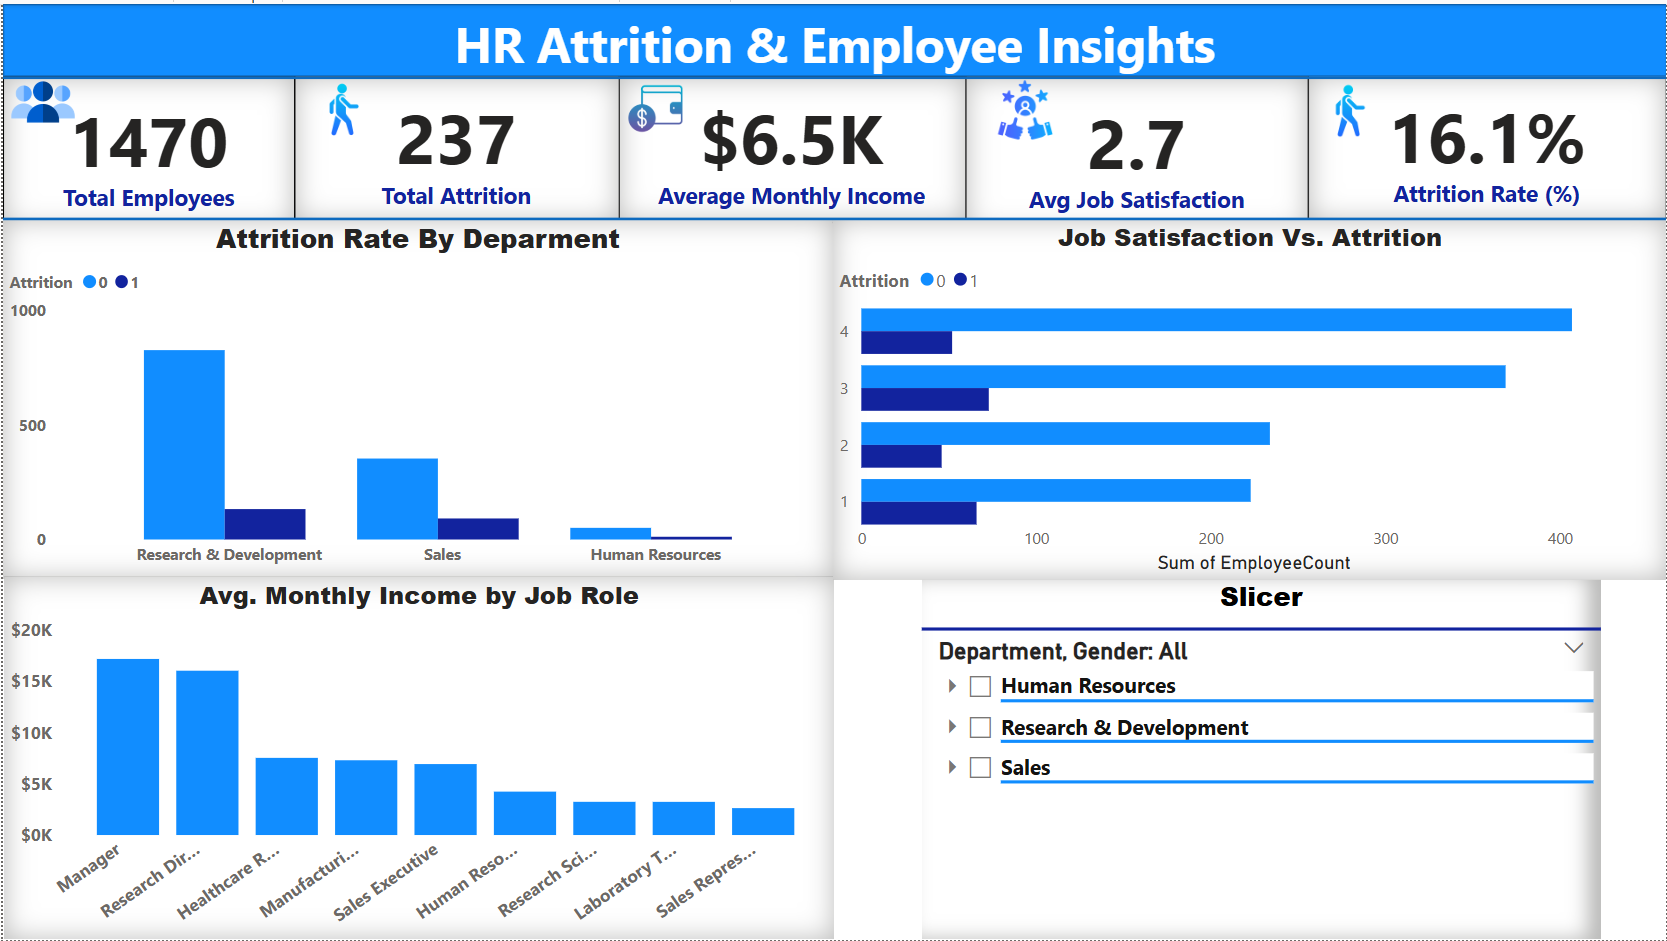

The page's visual inventory and layout, read from the dashboard file:
{"tool":"powerbi","page":{"name":"Page 1","canvas":[1280,720],"ordinal":0},"visuals":[{"type":"card","fields":{"Values":["Measures_Table.Attrition Rate (%)"]},"box":[1003.8,54.4,276.2,112.9],"z":0},{"type":"shape","box":[0,0,1280.2,55.8],"z":1000},{"type":"card","fields":{"Values":["Measures_Table.Average Income"]},"box":[473.3,55.4,268,112.9],"z":2000},{"type":"card","fields":{"Values":["Measures_Table.Total_Attrition"]},"box":[224.4,55.8,250,112.8],"z":3000},{"type":"card","fields":{"Values":["Table.Total_Employees"]},"box":[0,55.4,224.8,117],"z":4000},{"type":"card","fields":{"Values":["Measures_Table.Avg Job Satisfaction"]},"box":[740.7,55.8,264,119.8],"z":5000},{"type":"clusteredColumnChart","title":"Attrition Rate By Deparment","fields":{"Series":["hr_raw_data.Attrition"],"Category":["hr_data.Department"],"Y":["Sum(hr_data.EmployeeCount)"]},"box":[0,165.1,638.4,276.7],"z":6000},{"type":"slicer","title":"Slicer","fields":{"Values":["hr_raw_data.Department","hr_data.Gender"]},"box":[707,440.7,522.1,279.1],"z":7000},{"type":"clusteredColumnChart","title":"Avg. Monthly Income by Job Role","fields":{"Category":["hr_raw_data.JobRole"],"Y":["Measures_Table.Average Monthly Income"]},"box":[1.2,440.7,638.4,279.1],"z":8000},{"type":"image","box":[0,46.2,61.6,58.5],"z":9000},{"type":"clusteredBarChart","title":"Job Satisfaction Vs. Attrition","fields":{"Category":["hr_data.JobSatisfaction"],"Y":["Sum(hr_data.EmployeeCount)"],"Series":["hr_data.Attrition"]},"box":[638.1,165.1,641.9,277.9],"z":10000},{"type":"image","box":[209.4,54.4,105.7,53.4],"z":11000},{"type":"image","box":[468.6,54.7,67.4,51.2],"z":12000},{"type":"image","box":[731,53.4,110.9,55.4],"z":13000},{"type":"image","box":[983.5,55.4,105.7,53.4],"z":14000},{"type":"shape","box":[0,29.1,1280,55.8],"z":16000},{"type":"shape","box":[0,146.5,1280,38.4],"z":17000},{"type":"textbox","box":[0,1.2,1280,75.6],"z":17001}]}

Visuals, with their boxes in screenshot pixels (x1, y1, x2, y2), scaled from the page's 1280x720 canvas onto the 1667x941 screenshot:
card - Measures_Table.Attrition Rate (%): bbox(1307, 71, 1666, 219)
shape: bbox(0, 0, 1666, 73)
card - Measures_Table.Average Income: bbox(616, 72, 965, 220)
card - Measures_Table.Total_Attrition: bbox(292, 73, 618, 220)
card - Table.Total_Employees: bbox(0, 72, 293, 225)
card - Measures_Table.Avg Job Satisfaction: bbox(965, 73, 1308, 229)
"Attrition Rate By Deparment" clusteredColumnChart: bbox(0, 216, 831, 577)
"Slicer" slicer: bbox(921, 576, 1601, 940)
"Avg. Monthly Income by Job Role" clusteredColumnChart: bbox(2, 576, 833, 940)
image: bbox(0, 60, 80, 137)
"Job Satisfaction Vs. Attrition" clusteredBarChart: bbox(831, 216, 1666, 579)
image: bbox(273, 71, 410, 141)
image: bbox(610, 71, 698, 138)
image: bbox(952, 70, 1096, 142)
image: bbox(1281, 72, 1419, 142)
shape: bbox(0, 38, 1666, 111)
shape: bbox(0, 191, 1666, 242)
textbox: bbox(0, 2, 1666, 100)
